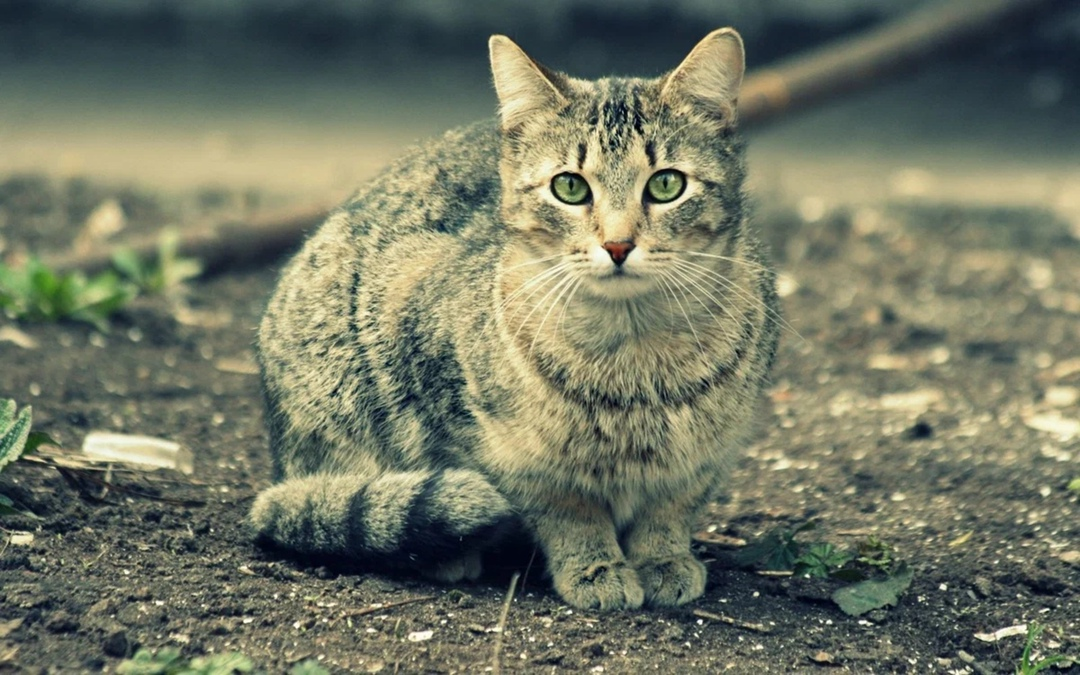cat: (231, 23, 777, 641)
